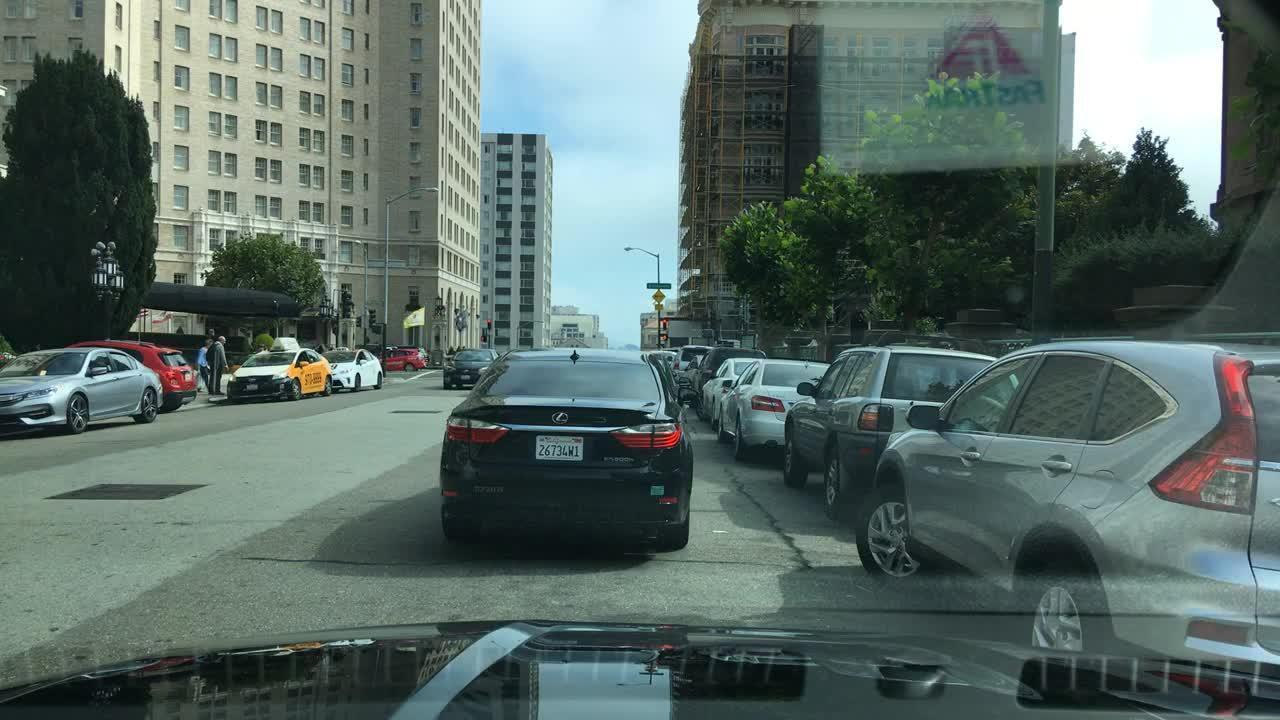lexus: (547, 407, 572, 428)
